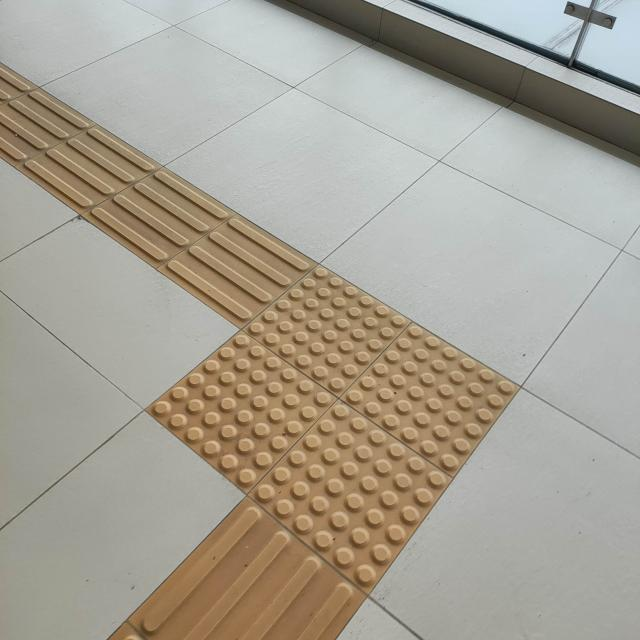kiri: (48, 108, 513, 606)
